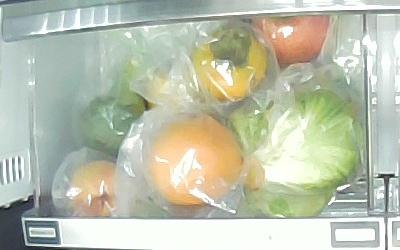apple_vinyl: (249, 14, 329, 66)
broccoli_vinyl: (81, 56, 145, 157)
grapefruit_vinyl: (147, 116, 242, 206)
lettuce_vinyl: (231, 89, 362, 217)
peach_vinyl: (68, 161, 134, 219)
persimmon_vinyl: (192, 27, 267, 100)
